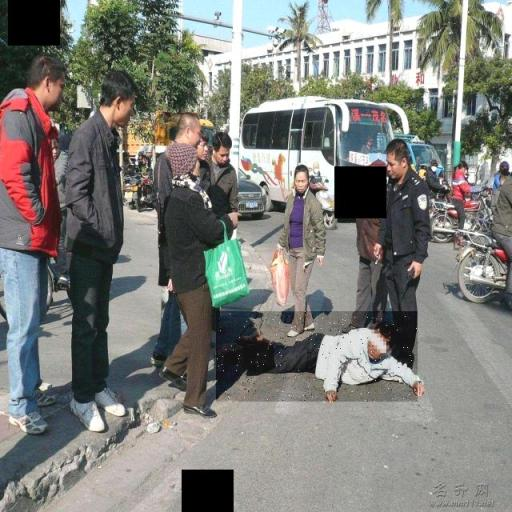Fall: (216, 311, 418, 402)
